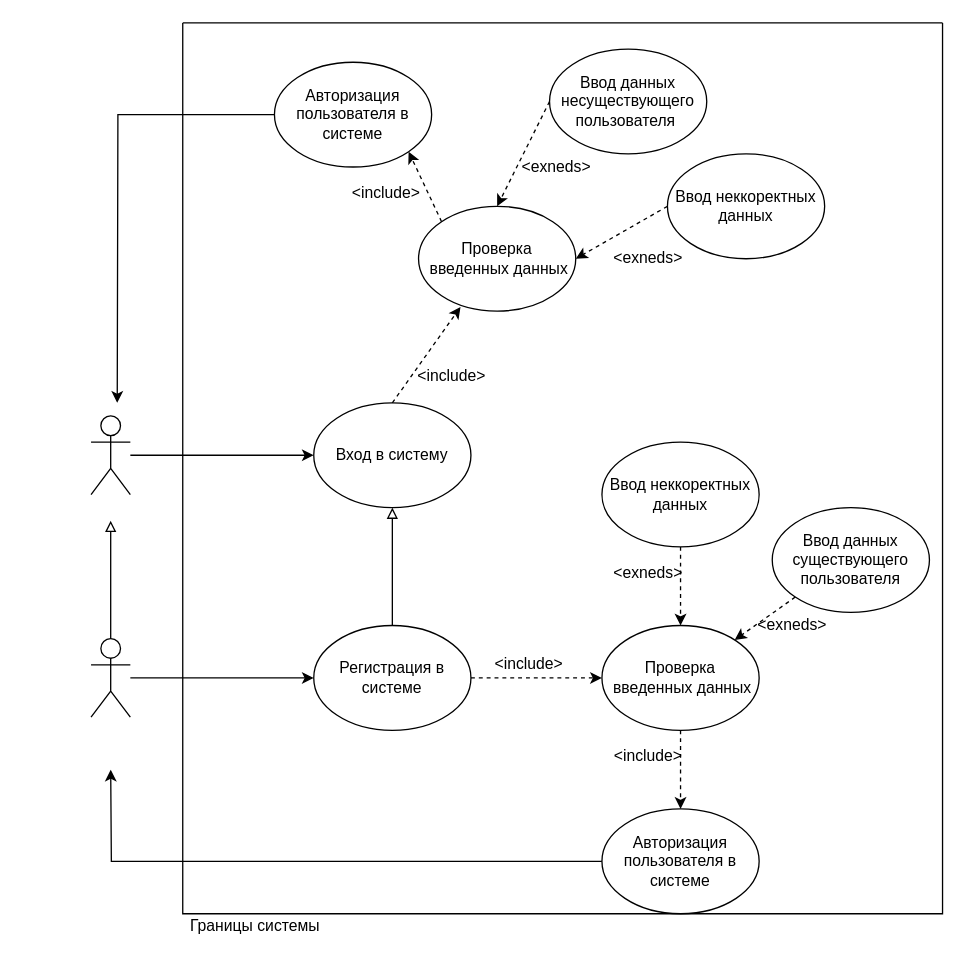
Image size: 965x963. Some labels were removed from this diagram. Here are the shapes that lost their labels. From the top down, the centre of each, then its label:
At (x=110, y=455): "Пользователь".
At (x=110, y=677): "Незарегистрированный пользователь".
